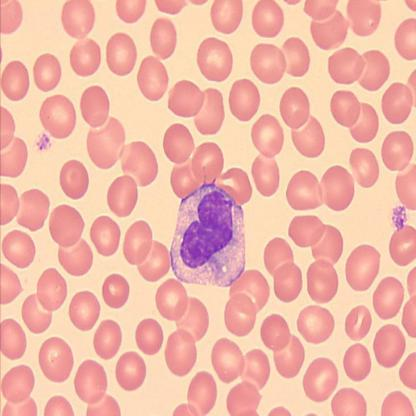Monocyte: (168, 163, 248, 289)
